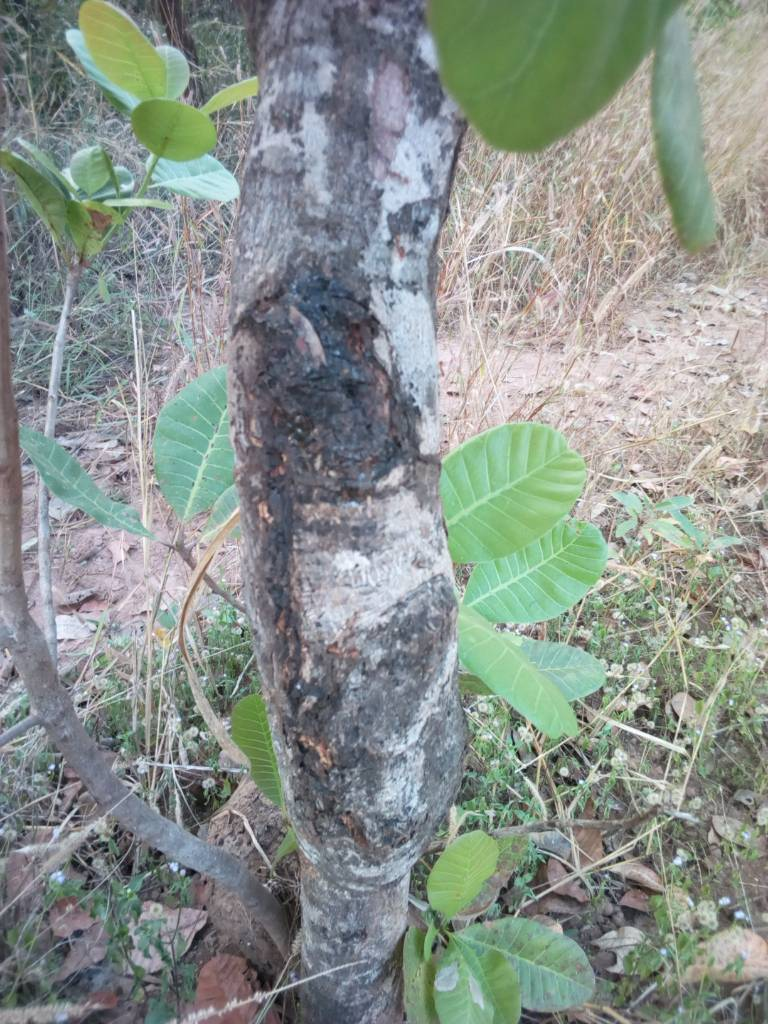ploceadorus ferrugineus: (178, 226, 497, 586)
